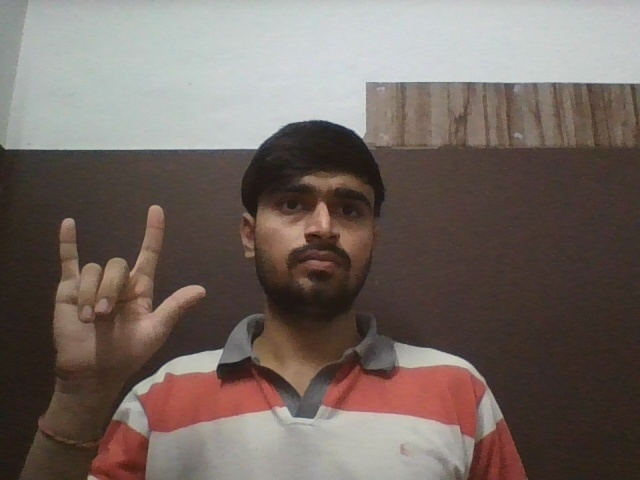I Love You: (53, 204, 207, 384)
